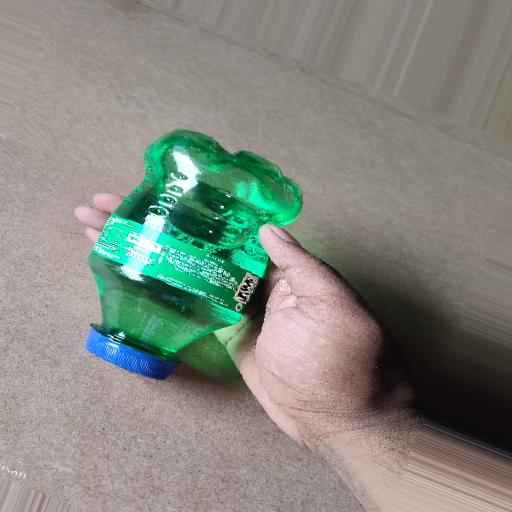Sprite: (54, 108, 358, 459)
